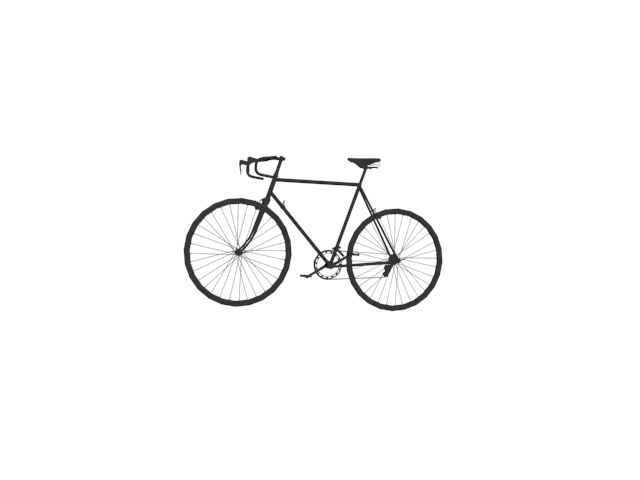bike: (177, 153, 448, 312)
